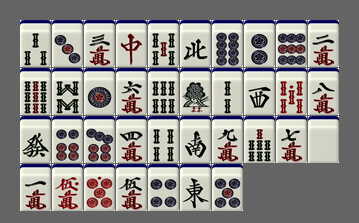0m: (52, 164, 83, 211)
0p: (84, 164, 115, 211)
0s: (276, 68, 307, 115)
1m: (20, 164, 51, 211)
1p: (84, 68, 115, 115)
1s: (180, 68, 211, 115)
1z: (180, 164, 211, 211)
2m: (308, 20, 339, 67)
2p: (244, 20, 275, 67)
2s: (212, 68, 243, 115)
2z: (180, 116, 211, 163)
3m: (84, 20, 115, 67)
3p: (52, 20, 83, 67)
3s: (20, 20, 51, 67)
3z: (244, 68, 275, 115)
4m: (116, 116, 147, 163)
4p: (148, 164, 179, 211)
4s: (148, 116, 179, 163)
4z: (180, 20, 211, 67)
5m: (116, 164, 147, 211)
5p: (212, 164, 243, 211)
5s: (148, 20, 179, 67)
5z: (308, 116, 339, 163)
6m: (116, 68, 147, 115)
6p: (52, 116, 83, 163)
6s: (148, 68, 179, 115)
6z: (20, 116, 51, 163)
7m: (276, 116, 307, 163)
7p: (84, 116, 115, 163)
7s: (244, 116, 275, 163)
7z: (116, 20, 147, 67)
8m: (308, 68, 339, 115)
8p: (212, 20, 243, 67)
8s: (52, 68, 83, 115)
9m: (212, 116, 243, 163)
9p: (276, 20, 307, 67)
9s: (20, 68, 51, 115)
